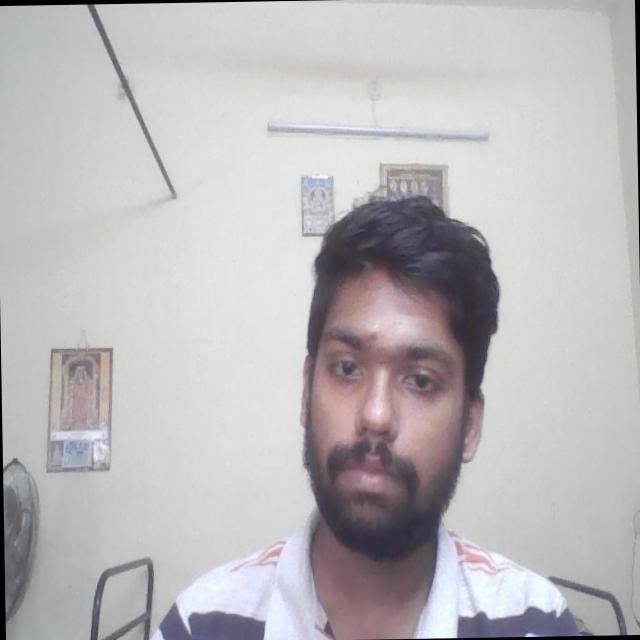Focused: (298, 292, 484, 520)
